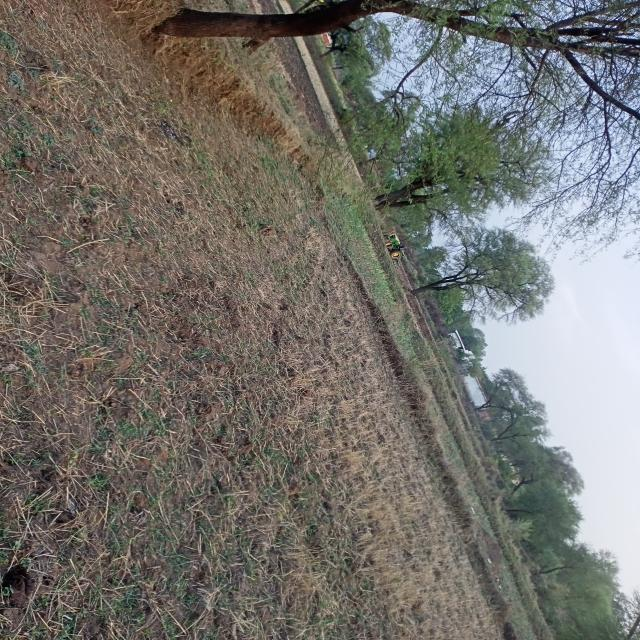tractor: (381, 230, 418, 261)
